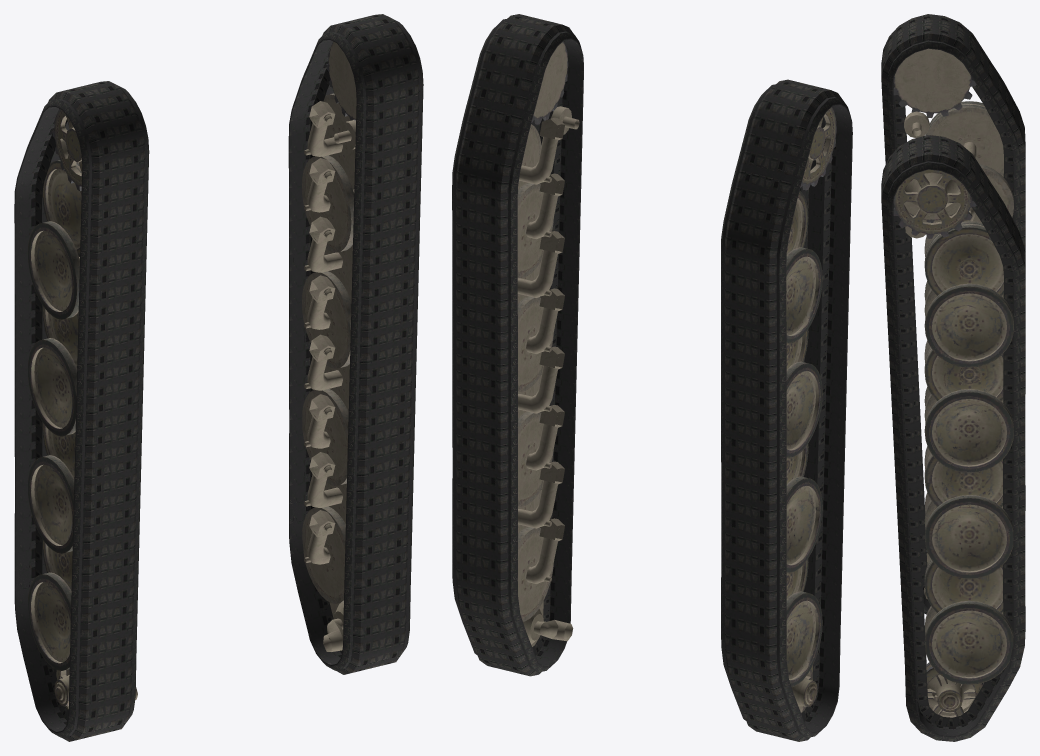
File: Chassis.glb
The picture shows the model from 3 angles, left to right: view 1: azimuth 30°, elevation 25°; view 2: azimuth 150°, elevation 25°; view 3: azimuth 270°, elevation 25°; orthographic projection. The views are drawn at different scales.
Visible parts, largest first — view 1: set_0_group_0, set_1_group_0, set_2_group_0, set_3_group_0; view 2: set_0_group_0, set_1_group_0, set_2_group_0, set_3_group_0; view 3: set_2_group_0, set_1_group_0, set_0_group_0, set_3_group_0.
Boxes of the visible parts, x1,y1,x2,y2 form: set_0_group_0: (14,81,149,741); set_1_group_0: (288,14,423,674); set_2_group_0: (302,41,356,651); set_3_group_0: (27,108,137,709); set_0_group_0: (721,79,852,741); set_1_group_0: (452,14,583,676); set_2_group_0: (517,41,579,646); set_3_group_0: (786,107,836,713); set_2_group_0: (893,169,1013,717); set_1_group_0: (881,135,1025,741); set_0_group_0: (881,14,1025,614); set_3_group_0: (893,48,1013,599).
Bounding box in the file's own units: 3.41 × 6.24 × 1.39.
4 materials, 4 textured.
